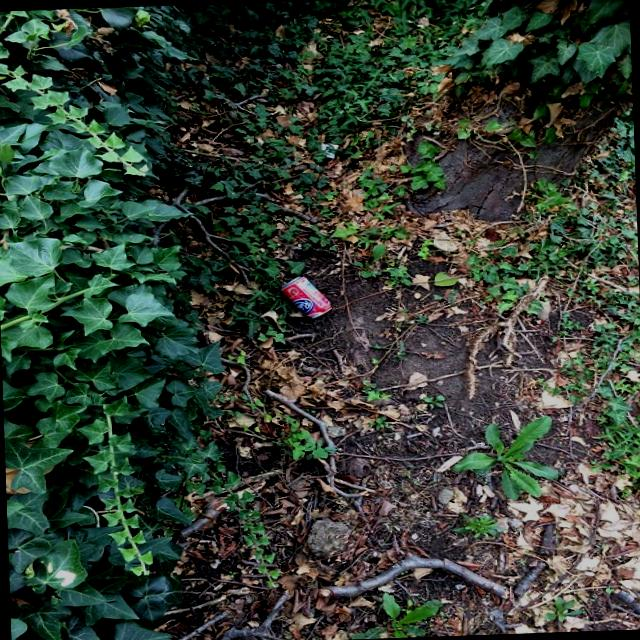Trash: (270, 274, 335, 320)
